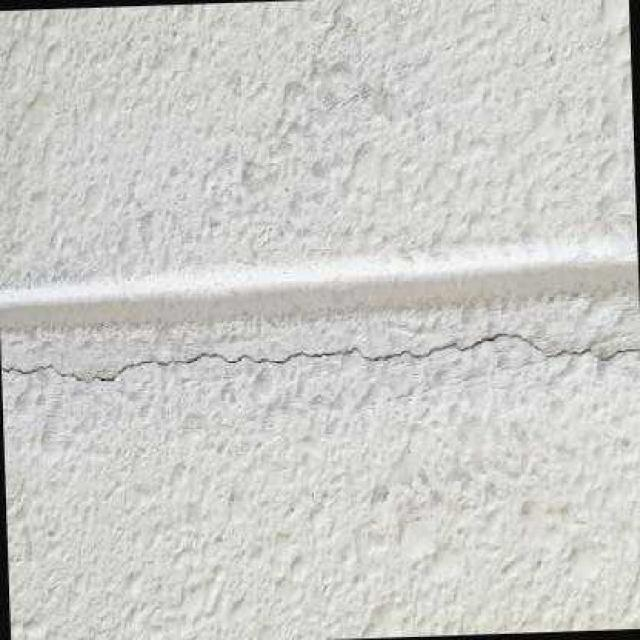D00: (1, 329, 640, 384)
